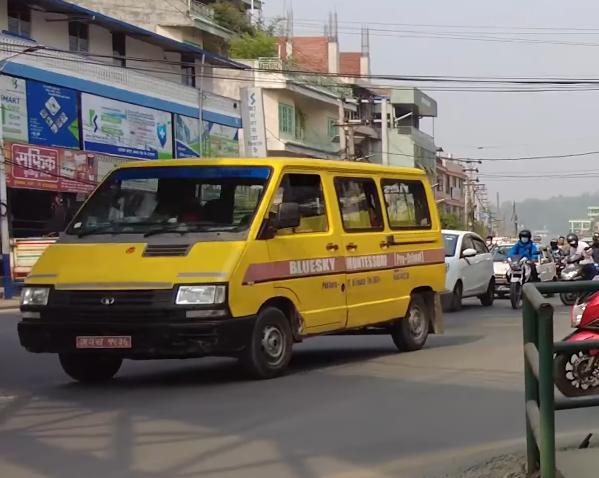bike: (499, 245, 542, 308)
car: (437, 227, 500, 310)
school_bus: (16, 148, 450, 377)
scooter: (558, 249, 594, 305)
